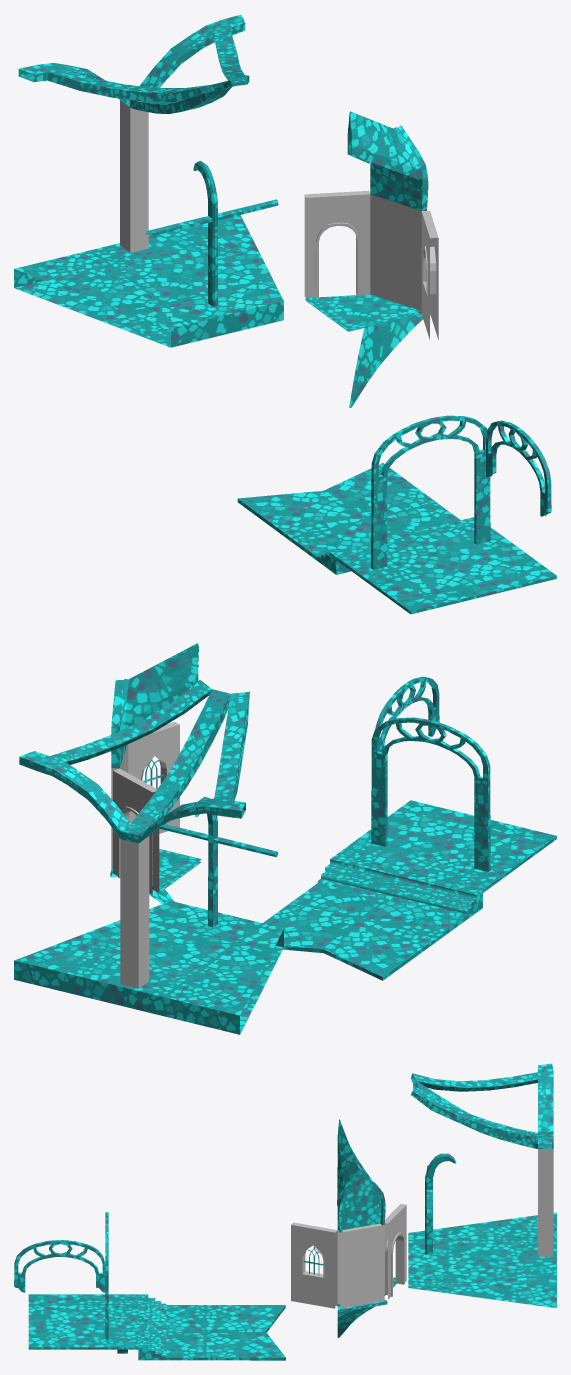
The model's file is Scene_With_Textures.fbx.
3 views of the same model, one above another, from view 1: azimuth 30°, elevation 25°; view 2: azimuth 150°, elevation 25°; view 3: azimuth 270°, elevation 25° (orthographic). The views are drawn at different scales.
Parts seen in each view (by area): view 1: Platform_Base, Bridge_Principal_Base, Bridge_Principal_Base1, Platfrom_UP_Base, House_Wall3, Bridge_Principal_Arc, House_Wall_Doorway, Base_Pillar, House_Ceiling, House_Floor, House_Buttom_Base, House_Ceiling_Transition (+5 smaller); view 2: Platform_Base, Platfrom_UP_Base, Bridge_Principal_Base1, Bridge_Principal_Base, Bridge_Principal_Arc, Ramp_A, Base_Pillar, House_Ceiling, House_Wall_Doorway, Window_Wall, Bridge_Principal_Corner_Left, Wall_Transition (+3 smaller); view 3: Platform_Base, Bridge_Principal_Base1, Bridge_Principal_Base, Platfrom_UP_Base, House_Wall3, Window_Wall, House_Ceiling_Transition, Ramp_A, House_Wall_Doorway, Base_Pillar, Bridge_Principal_Corner_Left, House_Ceiling (+3 smaller).
Part boxes in pixels (bbox=[...]): Platform_Base: bbox=[14, 215, 283, 347]; Bridge_Principal_Base: bbox=[336, 523, 556, 614]; Bridge_Principal_Base1: bbox=[237, 463, 460, 574]; Platfrom_UP_Base: bbox=[18, 14, 249, 113]; House_Wall3: bbox=[370, 194, 426, 313]; Bridge_Principal_Arc: bbox=[371, 415, 490, 569]; House_Wall_Doorway: bbox=[304, 190, 370, 298]; Base_Pillar: bbox=[120, 100, 148, 252]; House_Ceiling: bbox=[347, 111, 422, 179]; House_Floor: bbox=[305, 294, 421, 331]; House_Buttom_Base: bbox=[349, 316, 422, 407]; House_Ceiling_Transition: bbox=[370, 125, 428, 210]; Platform_Base: bbox=[14, 901, 283, 1034]; Platfrom_UP_Base: bbox=[19, 680, 249, 843]; Bridge_Principal_Base1: bbox=[263, 883, 480, 980]; Bridge_Principal_Base: bbox=[337, 800, 556, 892]; Bridge_Principal_Arc: bbox=[371, 717, 490, 871]; Ramp_A: bbox=[317, 854, 482, 922]; Base_Pillar: bbox=[120, 836, 149, 988]; House_Ceiling: bbox=[119, 643, 198, 730]; House_Wall_Doorway: bbox=[113, 768, 159, 894]; Window_Wall: bbox=[128, 721, 179, 833]; Bridge_Principal_Corner_Left: bbox=[375, 676, 439, 752]; Wall_Transition: bbox=[195, 796, 217, 927]; Platform_Base: bbox=[408, 1212, 556, 1308]; Bridge_Principal_Base1: bbox=[166, 1305, 285, 1360]; Bridge_Principal_Base: bbox=[28, 1294, 138, 1353]; Platfrom_UP_Base: bbox=[410, 1063, 553, 1149]; House_Wall3: bbox=[337, 1223, 384, 1308]; Window_Wall: bbox=[291, 1222, 337, 1308]; House_Ceiling_Transition: bbox=[337, 1171, 385, 1232]; Ramp_A: bbox=[138, 1294, 169, 1360]; House_Wall_Doorway: bbox=[384, 1204, 406, 1299]; Base_Pillar: bbox=[538, 1149, 553, 1256]; Bridge_Principal_Corner_Left: bbox=[14, 1240, 105, 1292]; House_Ceiling: bbox=[337, 1119, 381, 1205].
Bounding box in the file's own units: 1467 × 1780 × 3473.
